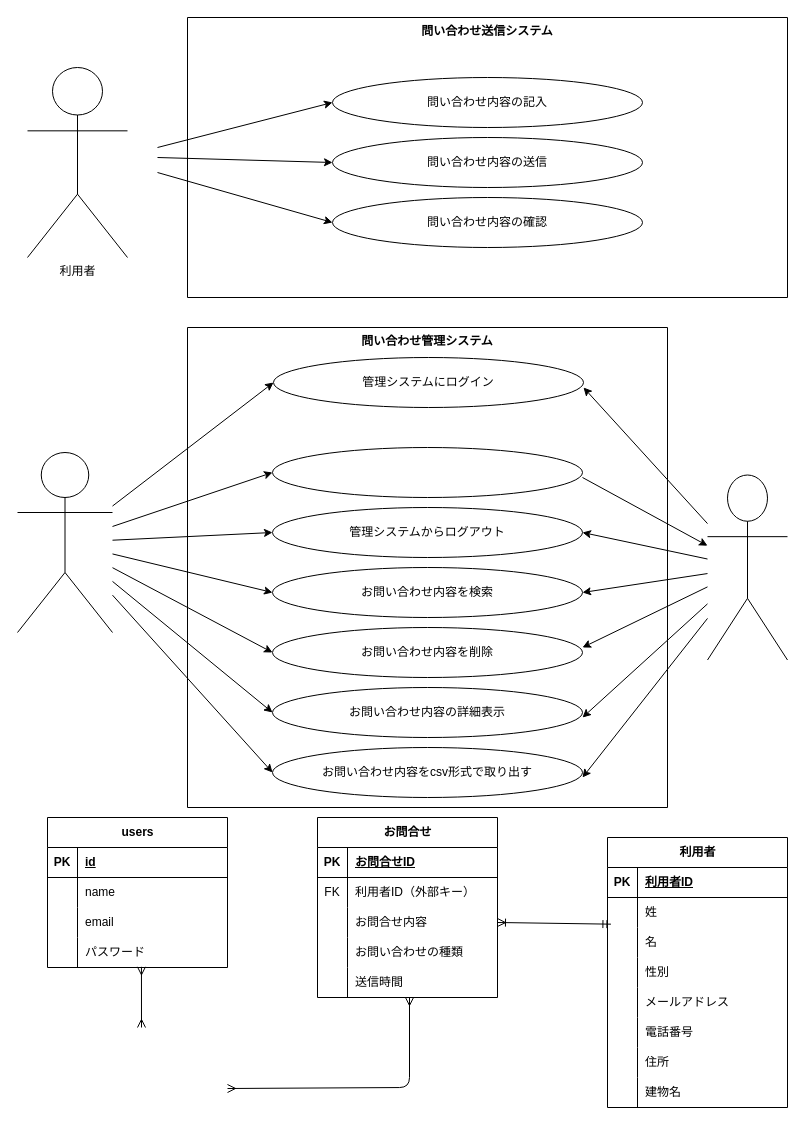
The diagram is 805 pixels wide and 1125 high, and some of its shapes have lost their labels. Each missing label, with the centre of its shape:
"新規ユーザーの作成・登録" belongs at point (427, 472).
"新規管理者" belongs at point (747, 567).
"管理者" belongs at point (64, 542).
